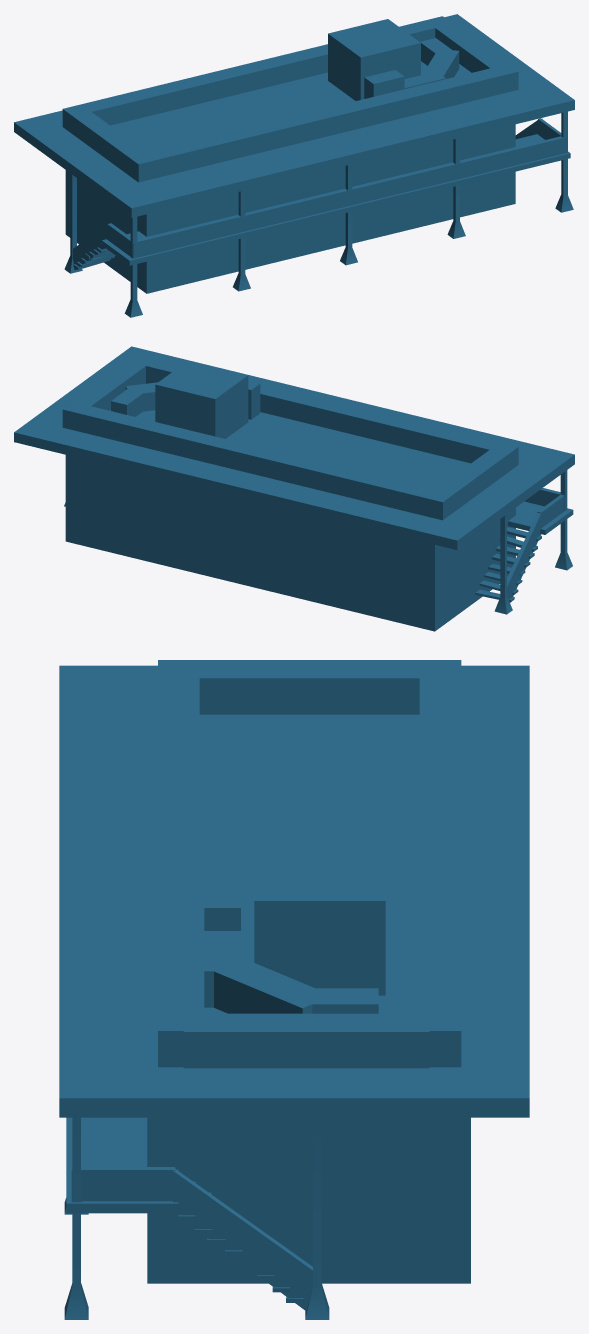
File: SM_Bld_Background_13_Collision.fbx
3 views of the same model, one above another, from view 1: azimuth 30°, elevation 25°; view 2: azimuth 150°, elevation 25°; view 3: azimuth 270°, elevation 25° (orthographic). The views are drawn at different scales.
Parts seen in each view (by area): view 1: SM_Bld_Background_13_Collision; view 2: SM_Bld_Background_13_Collision; view 3: SM_Bld_Background_13_Collision.
Boxes of the visible parts, box(x1,y1,x2,y2) form: SM_Bld_Background_13_Collision: box(14, 14, 574, 317); SM_Bld_Background_13_Collision: box(14, 346, 574, 631); SM_Bld_Background_13_Collision: box(59, 660, 529, 1319).
Bounding box in the file's own units: 1949 × 667 × 895.
